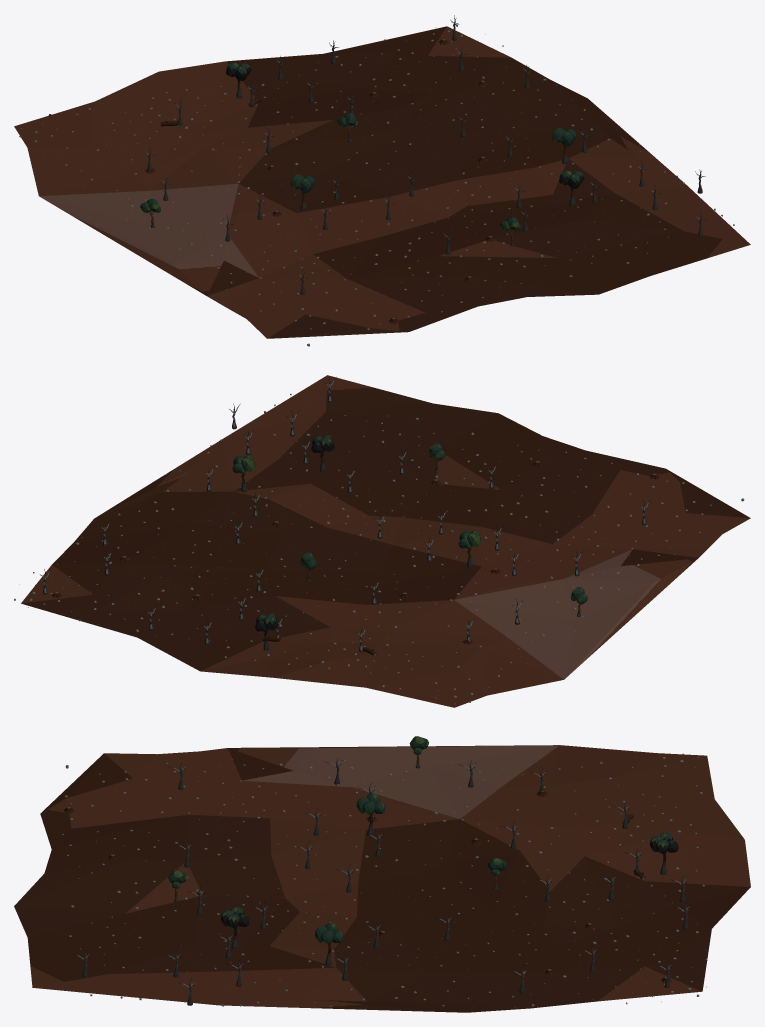
File: GroundFinalV2.fbx
3 renders of one model, top to bottom at view 1: azimuth 30°, elevation 25°; view 2: azimuth 150°, elevation 25°; view 3: azimuth 270°, elevation 25°, orthographic. The views are drawn at different scales.
Visible parts, largest first — view 1: Ground.002, Trees.002; view 2: Ground.002, Trees.002; view 3: Ground.002, Trees.002.
Part boxes in pixels (x1,y1,x2,y2): Ground.002: [14, 26, 750, 338]; Trees.002: [19, 15, 734, 346]; Ground.002: [21, 375, 750, 707]; Trees.002: [14, 377, 744, 704]; Ground.002: [14, 745, 750, 1012]; Trees.002: [62, 736, 707, 1007].
Size of the model in its own units: 11036 by 881 by 12588.
